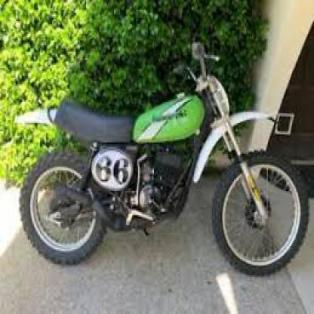Motocicleta: (10, 12, 310, 275)
